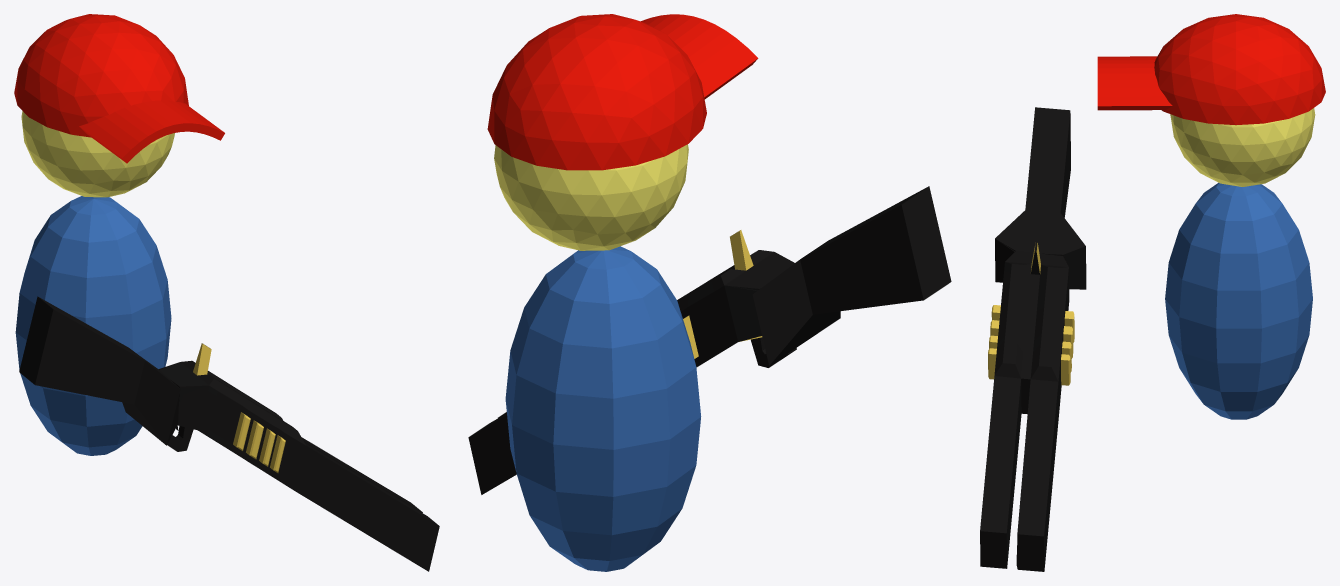
Rendered from Goshko.fbx.
3 renders of one model, left to right at view 1: azimuth 30°, elevation 25°; view 2: azimuth 150°, elevation 25°; view 3: azimuth 270°, elevation 25°, orthographic. The views are drawn at different scales.
Visible parts, largest first — view 1: Cube, Body, BezierCurve, Icosphere.001; view 2: Body, BezierCurve, Cube, Icosphere.001; view 3: Cube, Body, BezierCurve, Icosphere.001.
Part boxes in pixels (<box>): Cube: <box>19,296,439,571</box>; Body: <box>15,196,171,455</box>; BezierCurve: <box>14,14,224,163</box>; Icosphere.001: <box>21,111,174,197</box>; Body: <box>505,246,701,571</box>; BezierCurve: <box>487,14,758,170</box>; Cube: <box>468,186,951,494</box>; Icosphere.001: <box>494,144,688,250</box>; Cube: <box>980,107,1086,571</box>; Body: <box>1165,182,1312,419</box>; BezierCurve: <box>1097,14,1325,125</box>; Icosphere.001: <box>1170,108,1315,186</box>.
Bounding box in the file's own units: 773 × 966 × 656.
